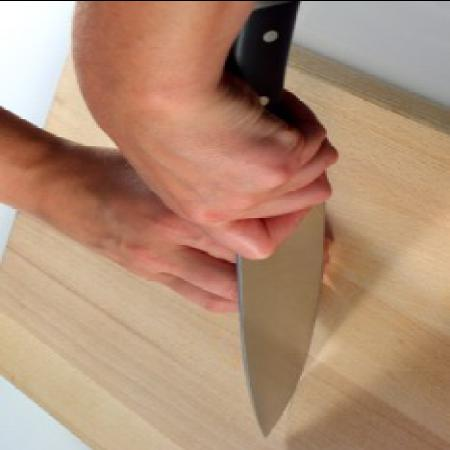long weapon: (208, 126, 336, 437)
